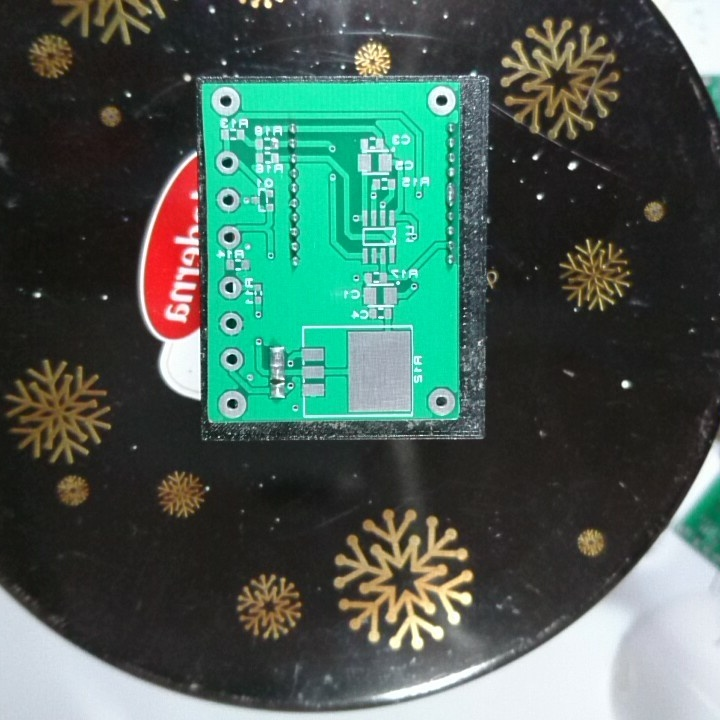F: (209, 85, 243, 117), (425, 84, 457, 116), (425, 386, 457, 417), (216, 389, 249, 419), (214, 186, 243, 214), (214, 149, 241, 178), (219, 346, 246, 372), (218, 311, 245, 337), (215, 223, 242, 249), (217, 275, 243, 300)
P: (266, 343, 288, 383), (443, 179, 457, 209)
